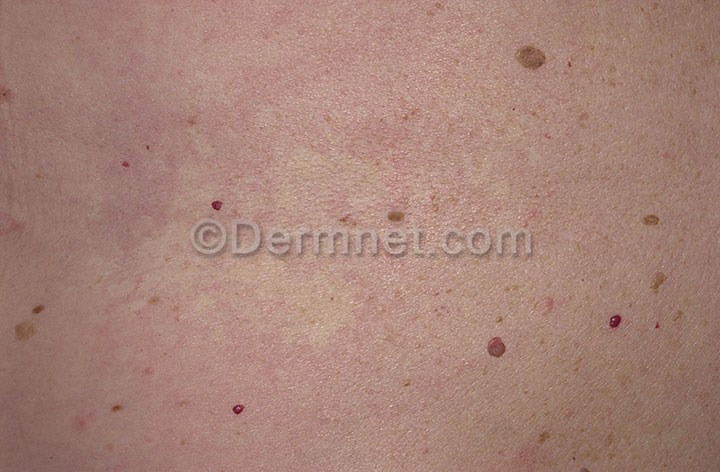Melasma: (90, 121, 426, 226), (580, 197, 720, 407), (465, 14, 646, 154), (63, 366, 314, 461), (385, 303, 521, 419), (0, 250, 90, 395)
